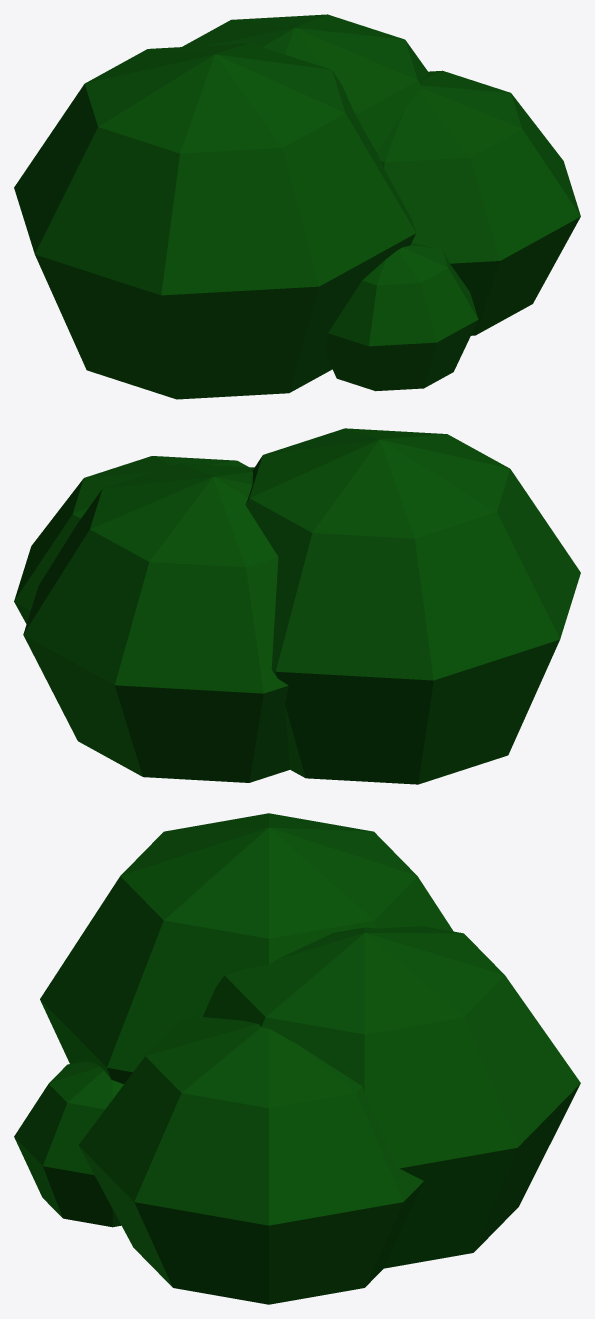
Rendered from bushes.FBX.
The picture shows the model from 3 angles, top to bottom: view 1: azimuth 30°, elevation 25°; view 2: azimuth 150°, elevation 25°; view 3: azimuth 270°, elevation 25°; orthographic projection. The views are drawn at different scales.
Visible parts, largest first — view 1: Sphere001; view 2: Sphere001; view 3: Sphere001.
Part boxes in pixels (x1,y1,x2,y2): Sphere001: (14, 14, 580, 399); Sphere001: (14, 428, 580, 784); Sphere001: (14, 813, 580, 1304).
Bounding box in the file's own units: 120 × 61.83 × 101.
